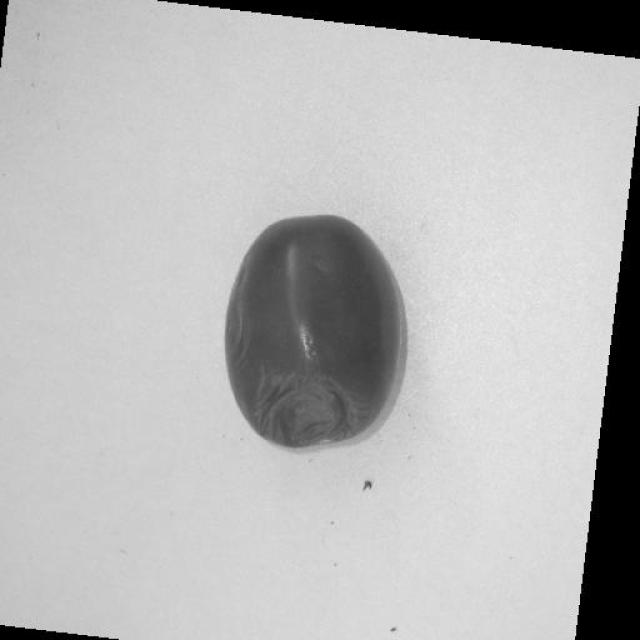Stale_tomato: (247, 339, 366, 452)
